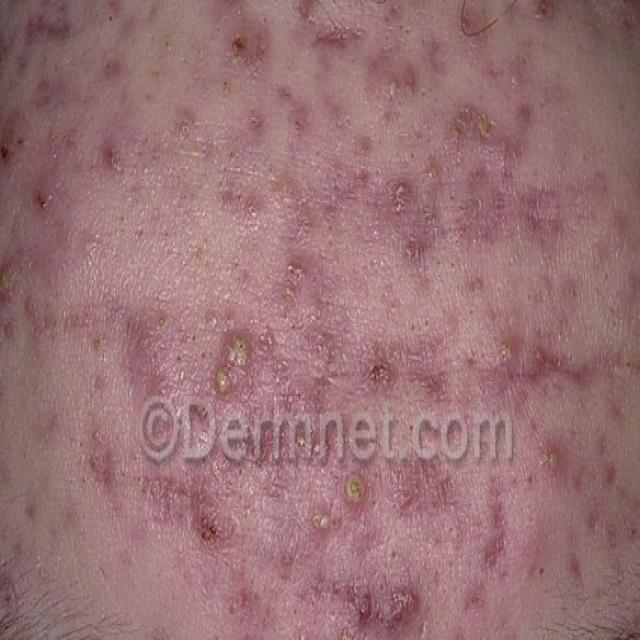Acne: (0, 5, 640, 557), (200, 296, 286, 422), (305, 424, 384, 527), (215, 21, 288, 96)
